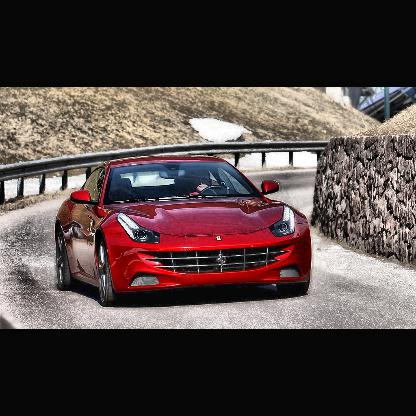Ferrari FF Coupe 2012: (55, 154, 313, 304)
